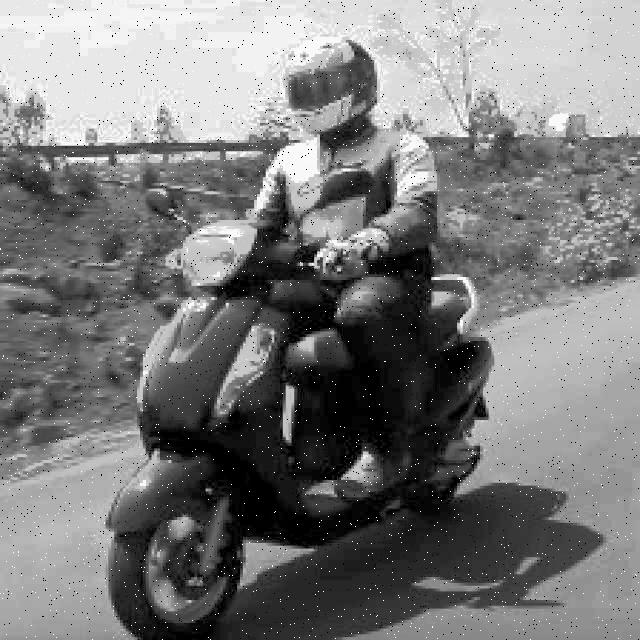Bike: (129, 229, 495, 639)
